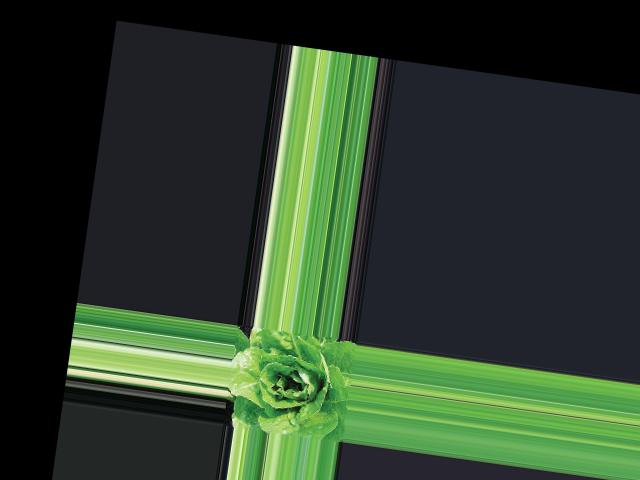lettuce: (228, 324, 355, 439)
